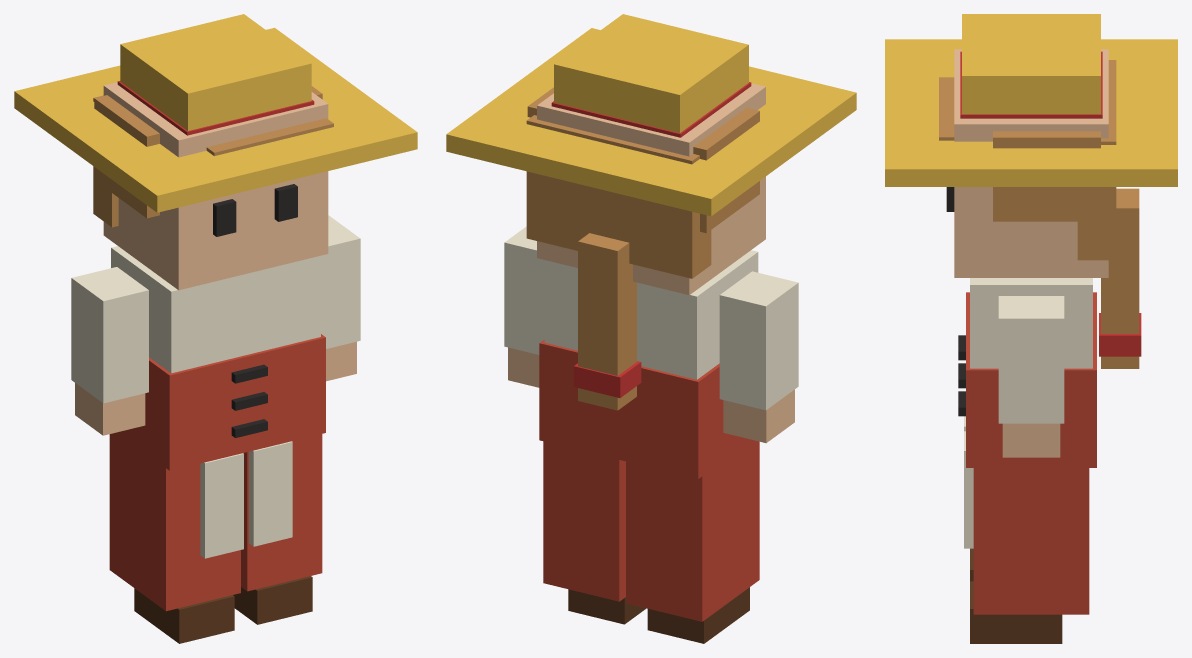
File: H_MedPeasantHat.fbx
3 renders of one model, left to right at view 1: azimuth 30°, elevation 25°; view 2: azimuth 150°, elevation 25°; view 3: azimuth 270°, elevation 25°, orthographic. The views are drawn at different scales.
Parts seen in each view (by area): view 1: M_PeasantHat; view 2: M_PeasantHat; view 3: M_PeasantHat.
Part boxes in pixels (x1=…): M_PeasantHat: x1=14, y1=14, x2=417, y2=643; M_PeasantHat: x1=446, y1=14, x2=856, y2=643; M_PeasantHat: x1=885, y1=14, x2=1177, y2=643.
Bounding box in the file's own units: 0.8 × 1.62 × 0.76.
Materials: 1 (1 with a texture image).
